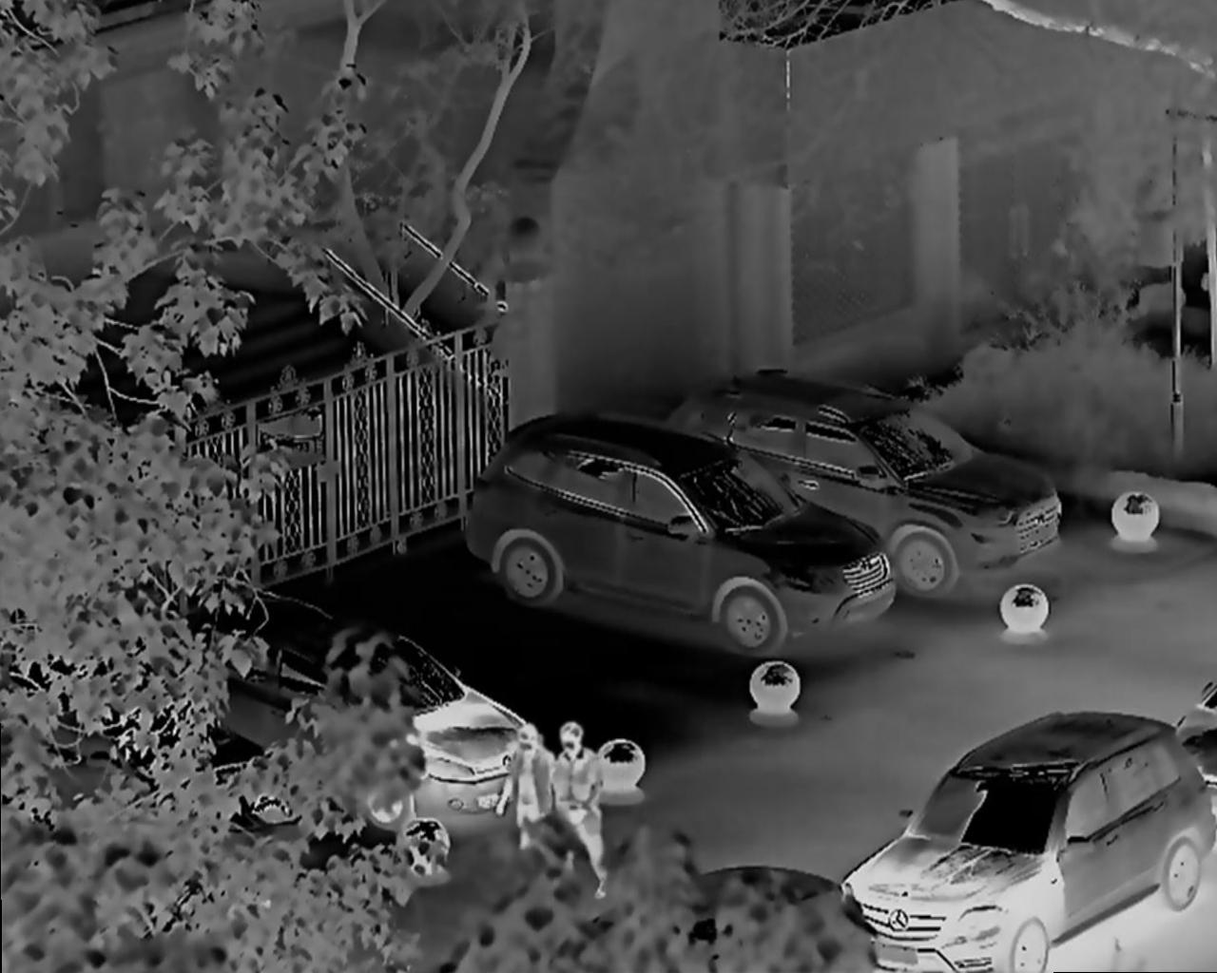person: (549, 713, 604, 878), (496, 722, 546, 856)
